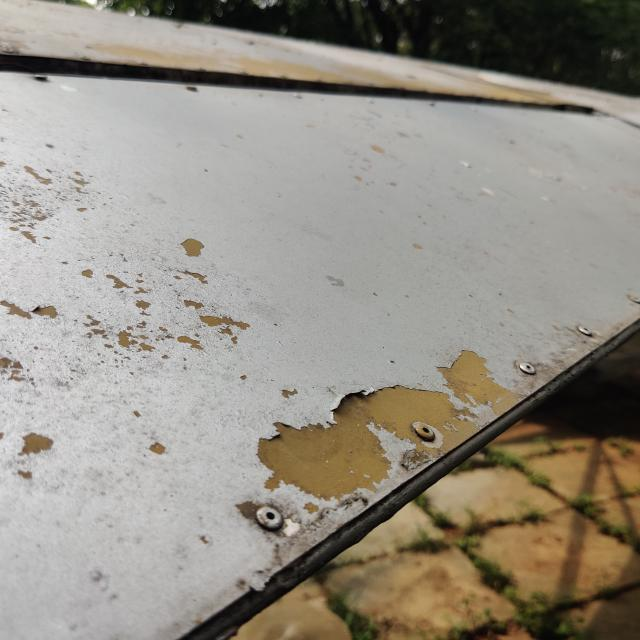Paint-off: (258, 351, 517, 500)
